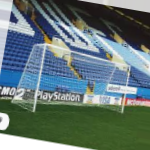goals: (12, 43, 131, 118)
